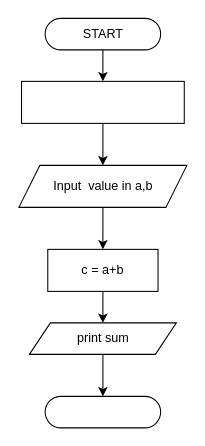
This 205x446 diagram has some shape labels left out. The shapes that lost their labels are listed below. From the top down, each one's centre as x and y in pixels, then its label:
the point at 102,101: Declare two variables a,b
the point at 102,411: STOP
